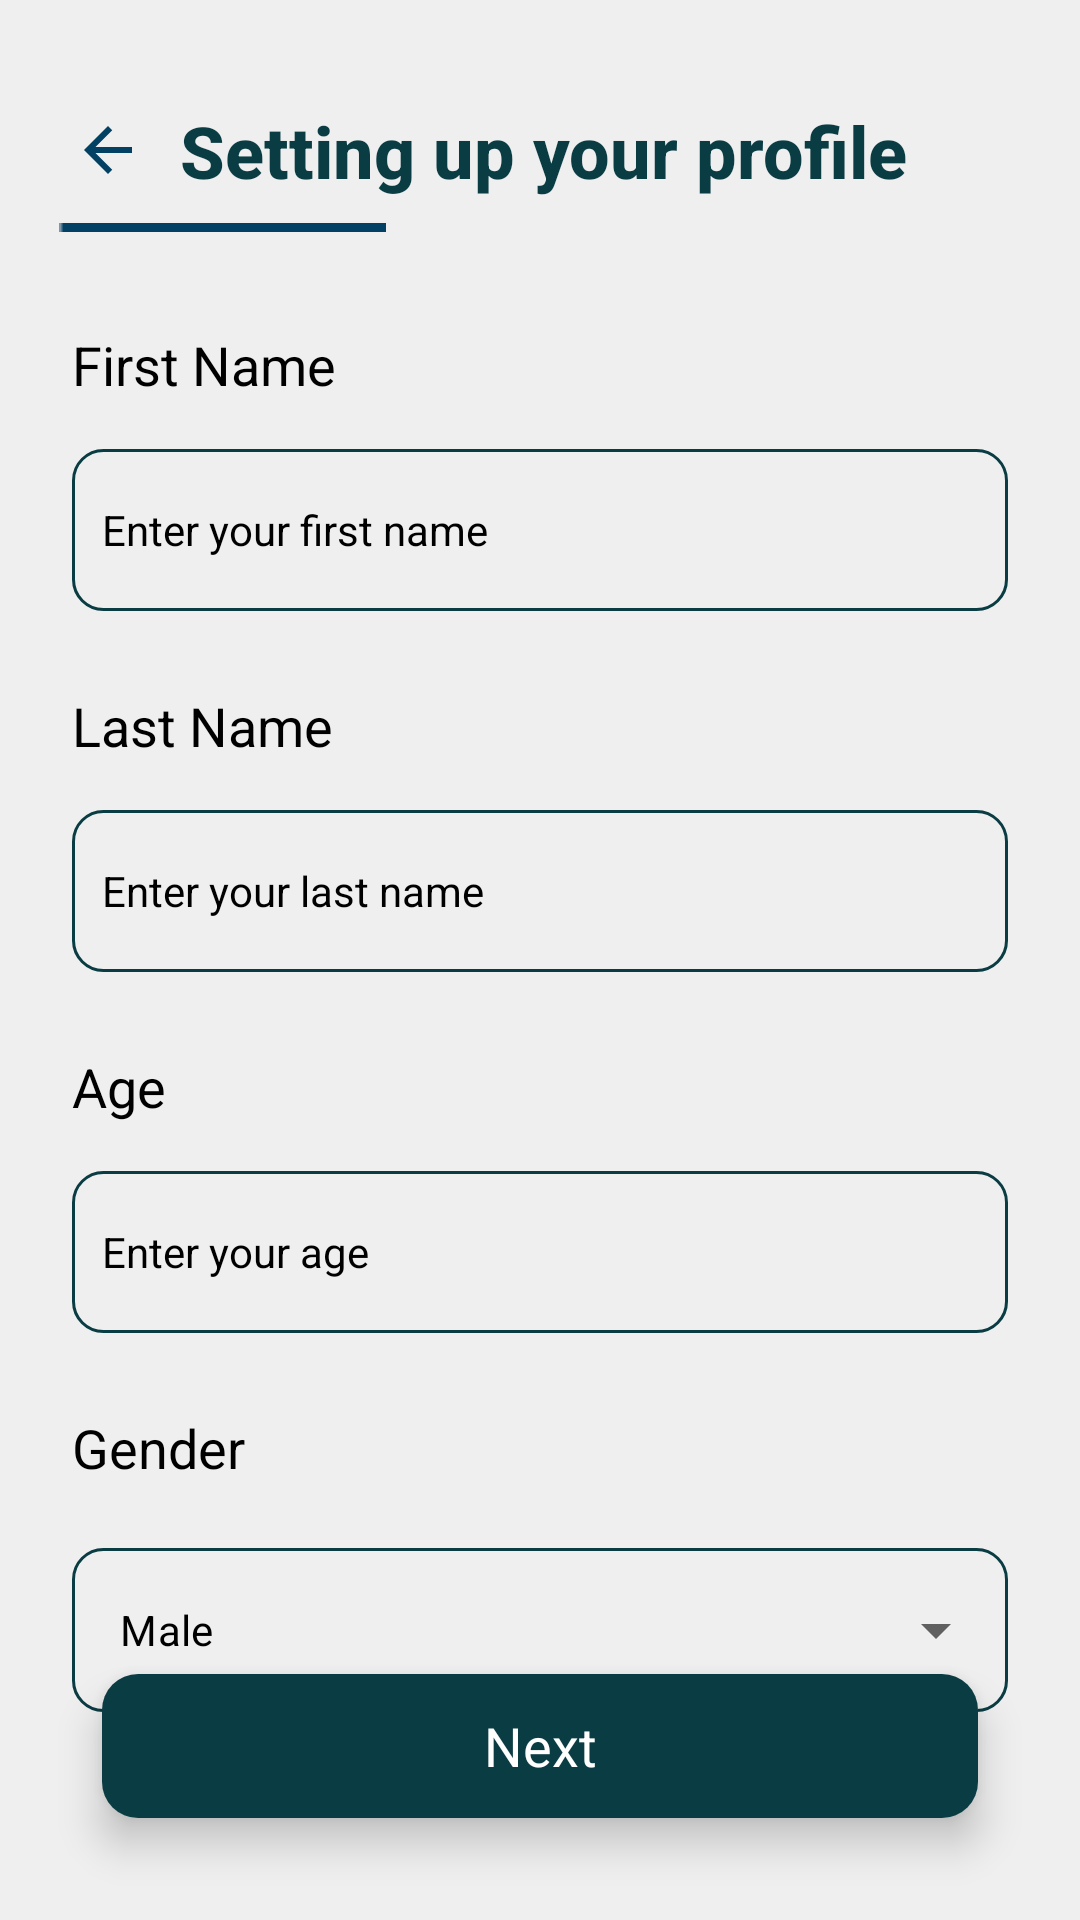

Where to tap for icons on this 1080 × 1920 app screen, as (x=x, y=y):
back: (x=108, y=150)
